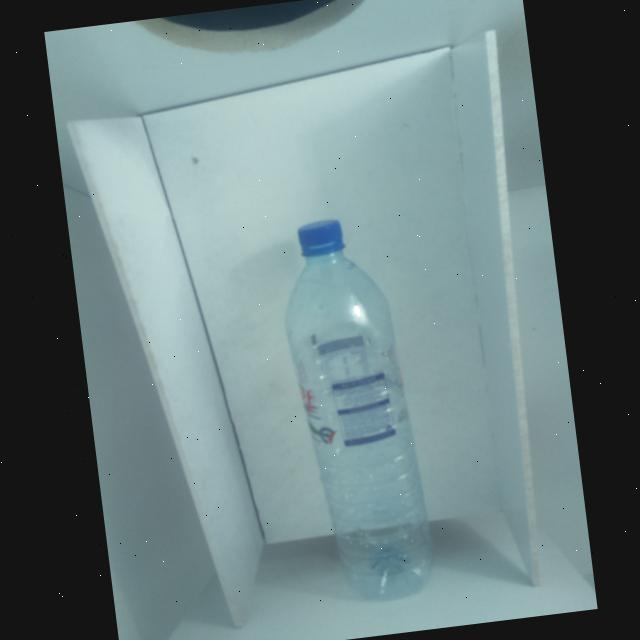trash: (272, 200, 465, 609)
